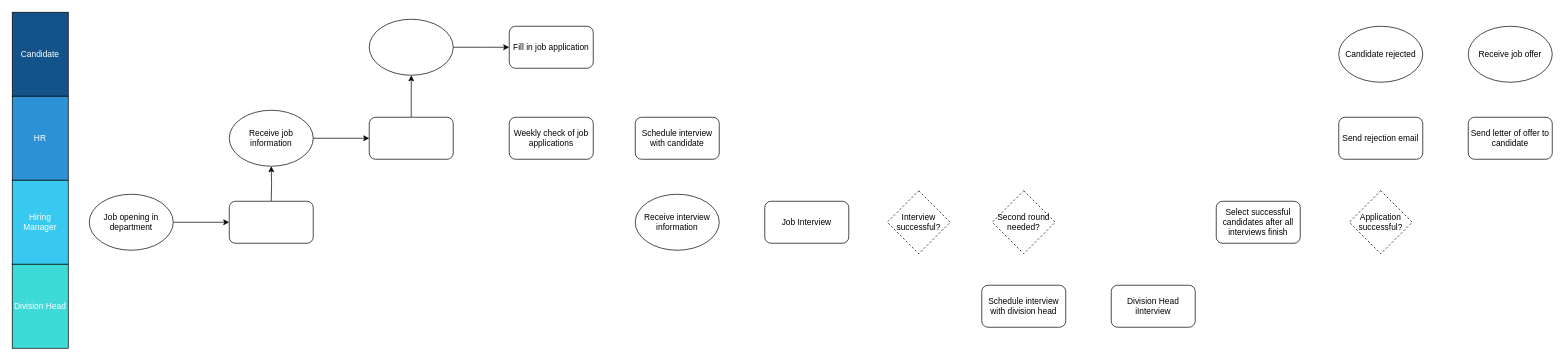
Image size: 1565x361. Some labels were removed from this diagram. Here are the shapes that lost their labels. From the top down, the centre of each, then its label:
At point (411, 47): "Come across job post".
At point (411, 138): "Post jobs online".
At point (271, 222): "Email job information to HR".
